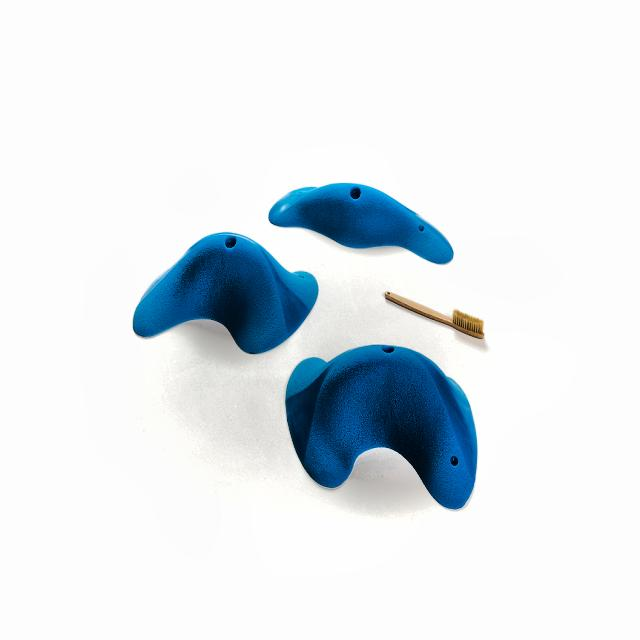Hold: (288, 344, 478, 514), (131, 224, 322, 355), (256, 160, 469, 272)
